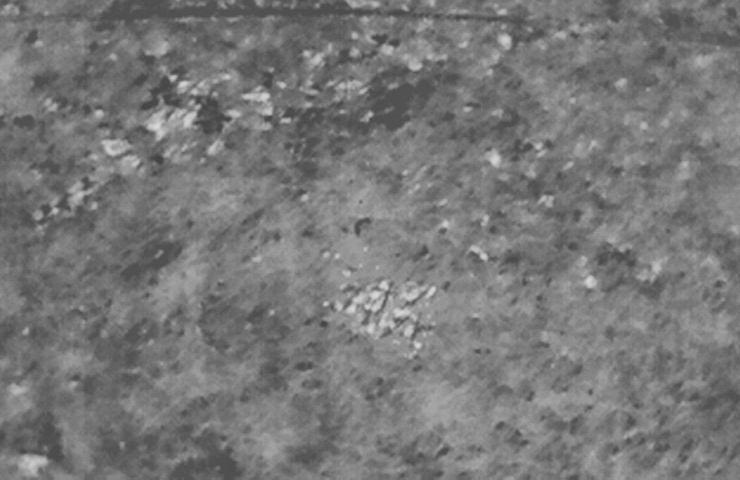landmines: (345, 274, 440, 352)
